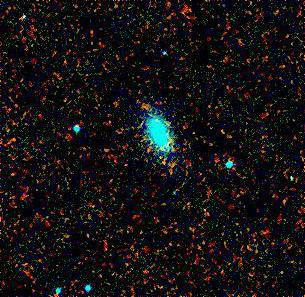star: (127, 92, 157, 122)
